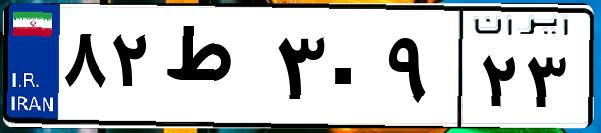0: (330, 28, 385, 110)
2: (475, 38, 525, 113), (110, 28, 158, 98)
3: (270, 28, 330, 110), (525, 38, 570, 115)
8: (57, 26, 110, 100)
9: (385, 28, 445, 110)
ط: (158, 20, 270, 120)
